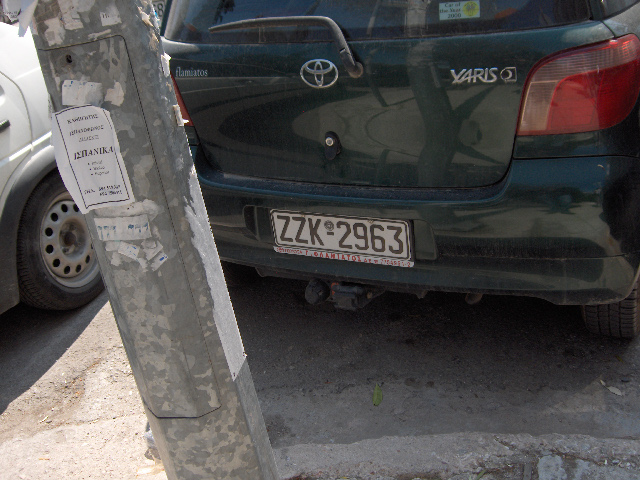licenseplate: (268, 208, 411, 262)
